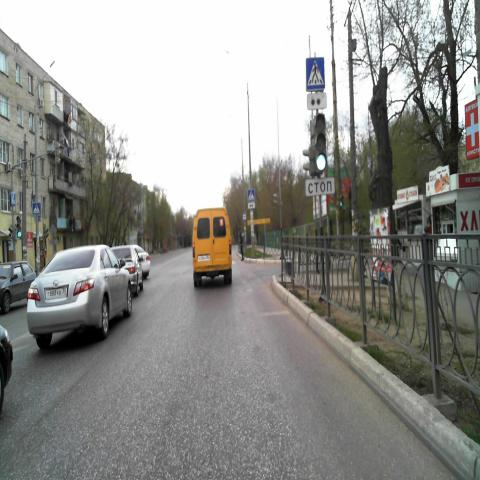8_15: (307, 92, 327, 109)
